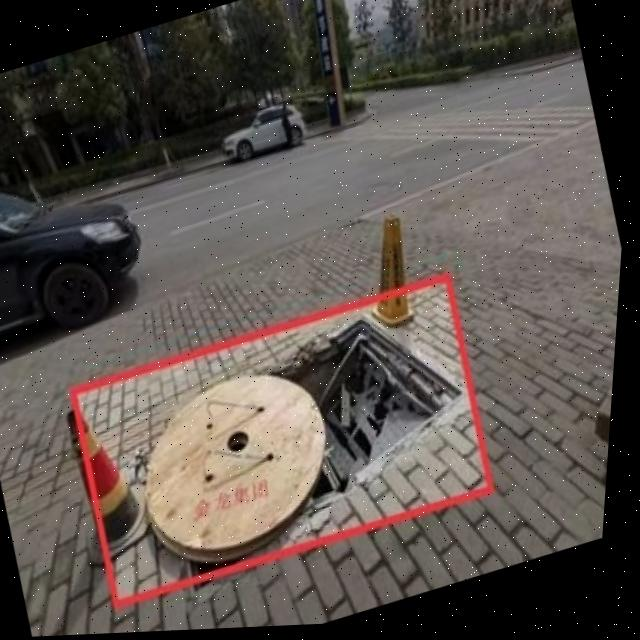manhole: (130, 299, 485, 561)
